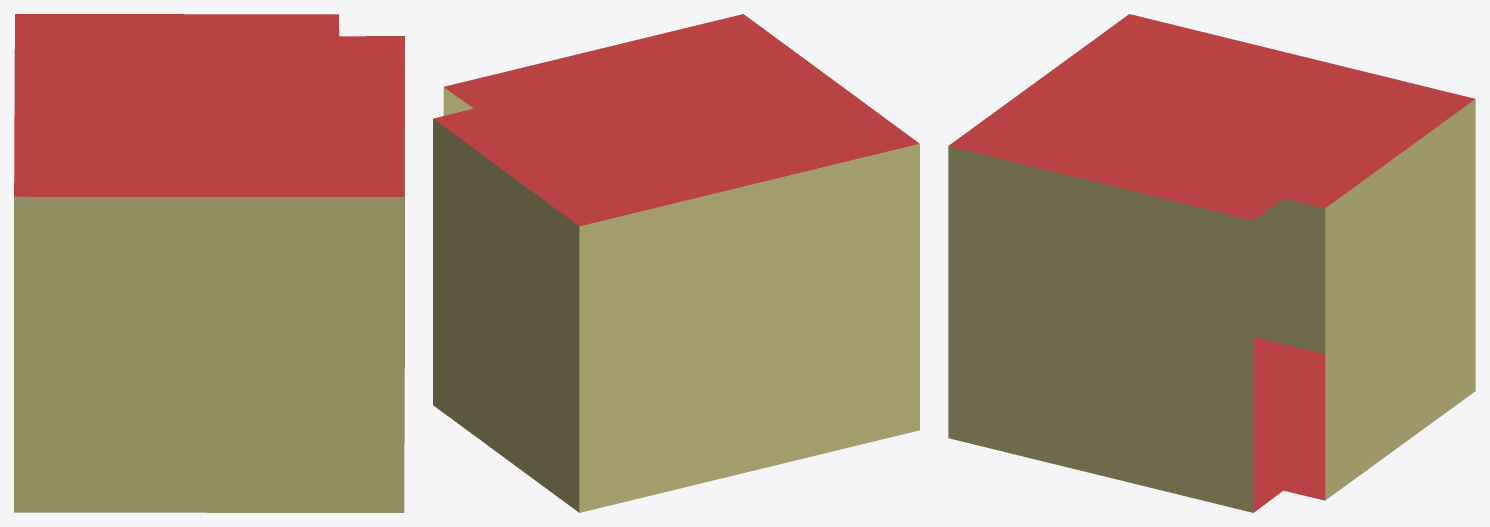
3 renders of one model, left to right at view 1: azimuth 30°, elevation 25°; view 2: azimuth 150°, elevation 25°; view 3: azimuth 270°, elevation 25°, orthographic. The views are drawn at different scales.
Visible parts, largest first — view 1: group_4, group_3; view 2: group_4, group_3; view 3: group_4, group_3, group_5.
Part boxes in pixels (x1,y1,x2,y2): group_4: (14, 53, 404, 512); group_3: (14, 14, 404, 196); group_4: (433, 87, 919, 512); group_3: (433, 14, 919, 226); group_4: (948, 99, 1475, 512); group_3: (948, 14, 1474, 220); group_5: (1253, 337, 1325, 512).
Size of the model in its own units: 8.89 by 9.58 by 5.86.
